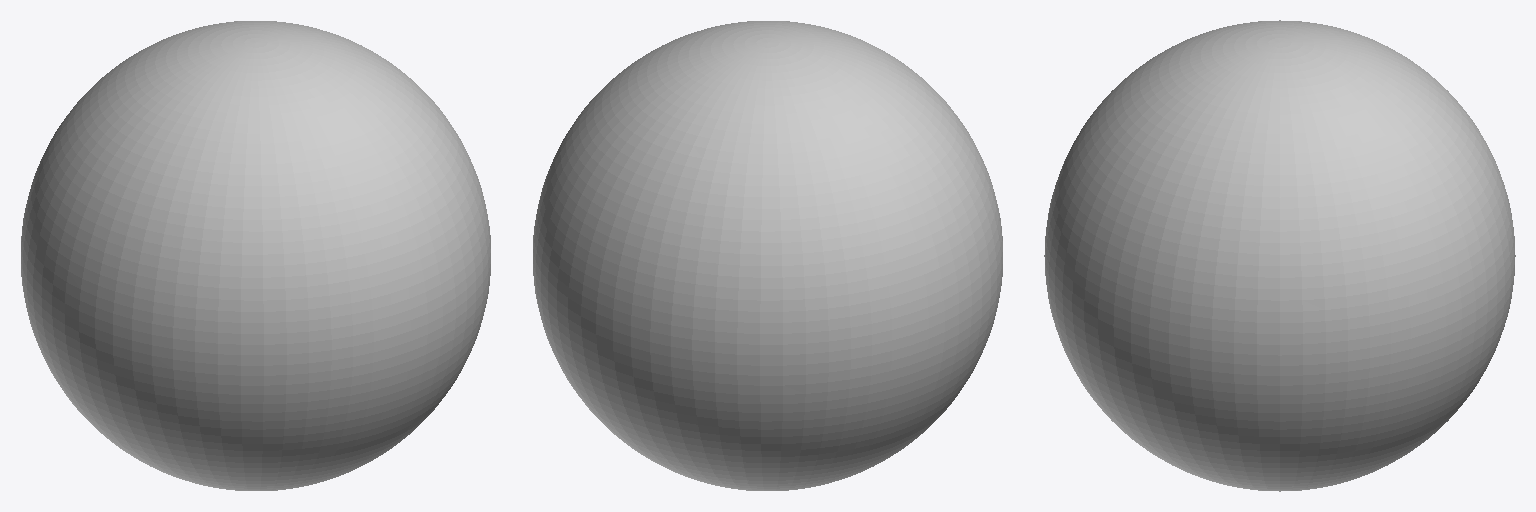
File: sphere_high_res.obj
3 renders of one model, left to right at view 1: azimuth 30°, elevation 25°; view 2: azimuth 150°, elevation 25°; view 3: azimuth 270°, elevation 25°, orthographic.
Parts seen in each view (by area): view 1: Sphere; view 2: Sphere; view 3: Sphere.
Boxes of the visible parts, x1,y1,x2,y2 form: Sphere: [21, 21, 490, 490]; Sphere: [533, 21, 1002, 490]; Sphere: [1044, 20, 1515, 491].
Size of the model in its own units: 0.5 by 0.5 by 0.5.